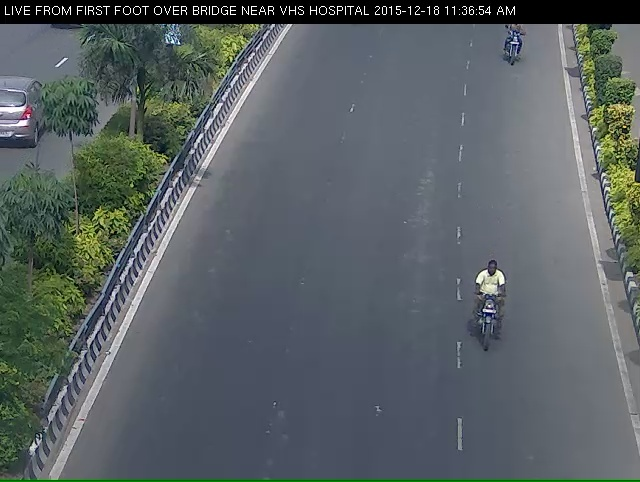Person: (463, 271, 522, 405), (500, 21, 543, 78)
